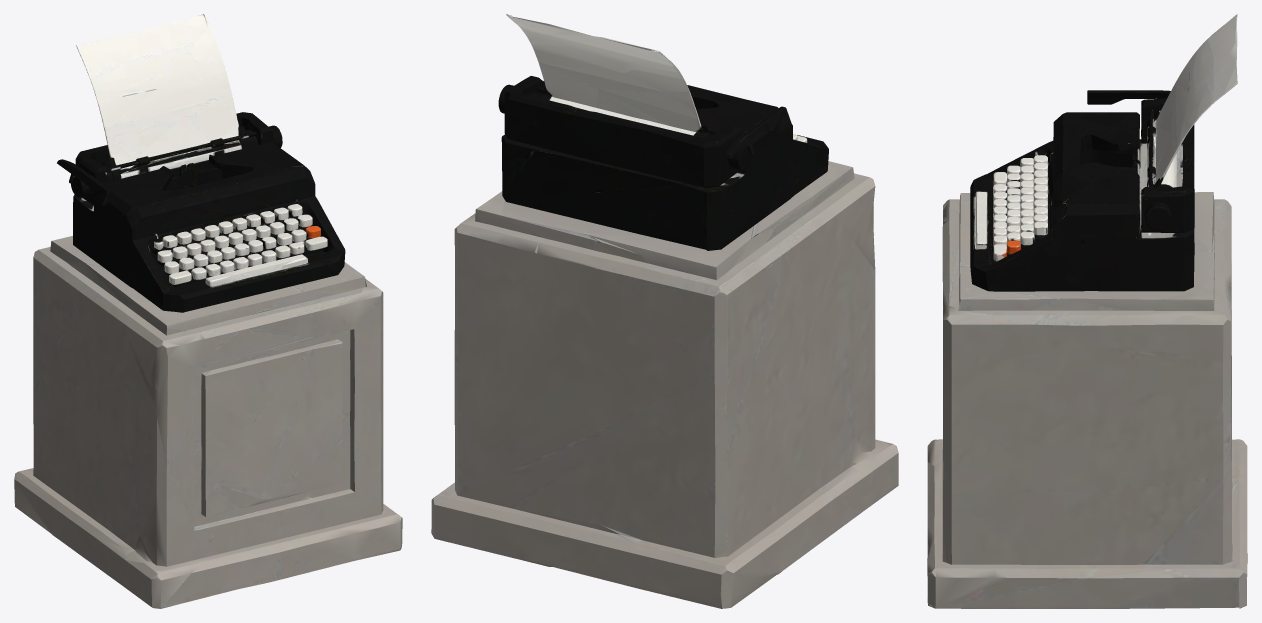
The model's file is medium.glb.
3 renders of one model, left to right at view 1: azimuth 30°, elevation 25°; view 2: azimuth 150°, elevation 25°; view 3: azimuth 270°, elevation 25°, orthographic. The views are drawn at different scales.
Bounding box in the file's own units: 1.12 × 1.9 × 1.12.
Materials: 1 (1 with a texture image).
